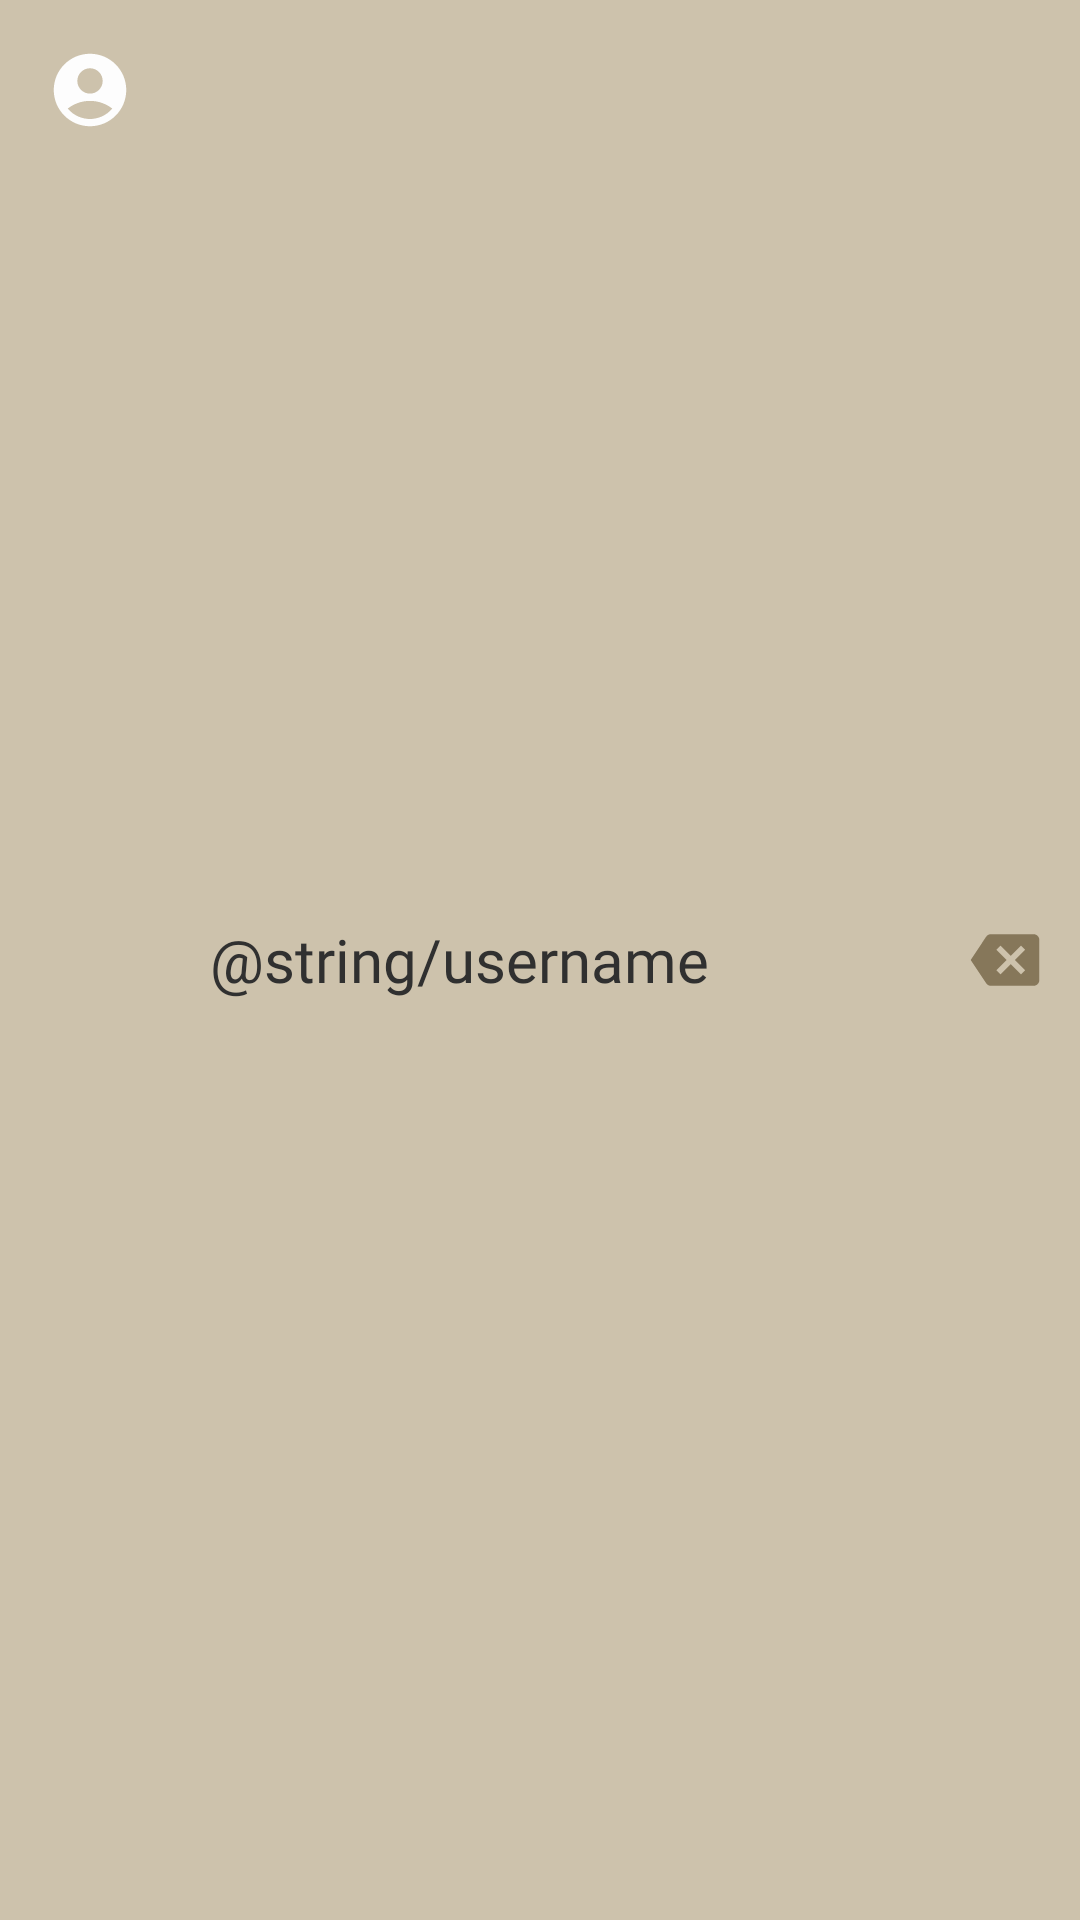

Icon click points for this 1080x1920 phone screenshot, format (x=x, y=y):
friends remove: (x=1005, y=960)
Profile Picture: (x=90, y=90)
